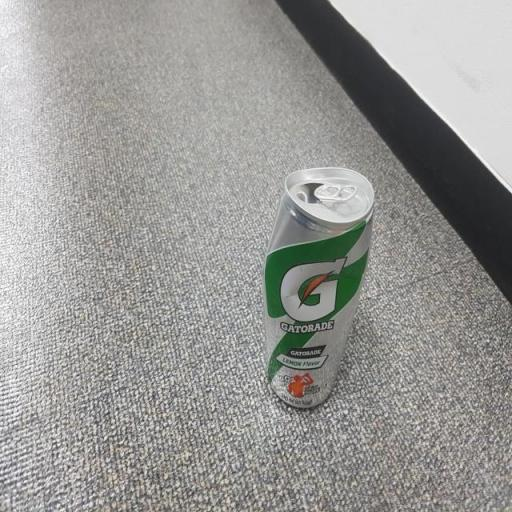metal: (242, 136, 386, 444)
